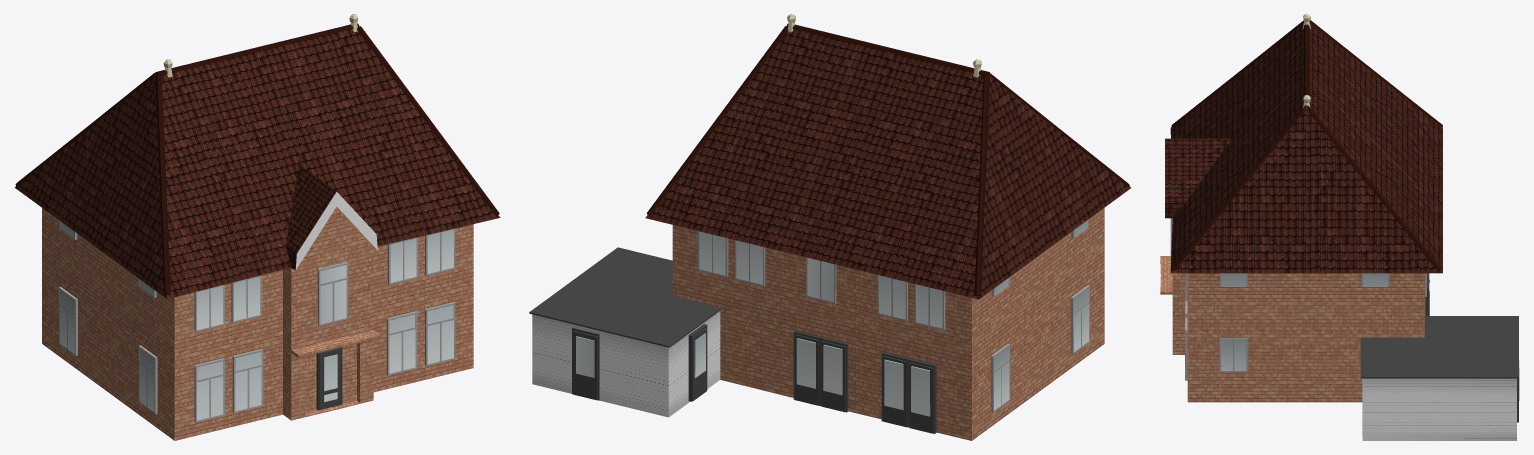
The model's file is Woning stjelp 6.fbx.
The picture shows the model from 3 angles, left to right: view 1: azimuth 30°, elevation 25°; view 2: azimuth 150°, elevation 25°; view 3: azimuth 270°, elevation 25°; orthographic projection. The views are drawn at different scales.
Visible parts, largest first — view 1: Stjelp_6:stjelp_6; view 2: Stjelp_6:stjelp_6; view 3: Stjelp_6:stjelp_6.
Boxes of the visible parts, x1=… form: Stjelp_6:stjelp_6: x1=14, y1=14, x2=500, y2=440; Stjelp_6:stjelp_6: x1=529, y1=14, x2=1131, y2=440; Stjelp_6:stjelp_6: x1=1160, y1=14, x2=1519, y2=440.
Size of the model in its own units: 16.06 by 12 by 13.76.
